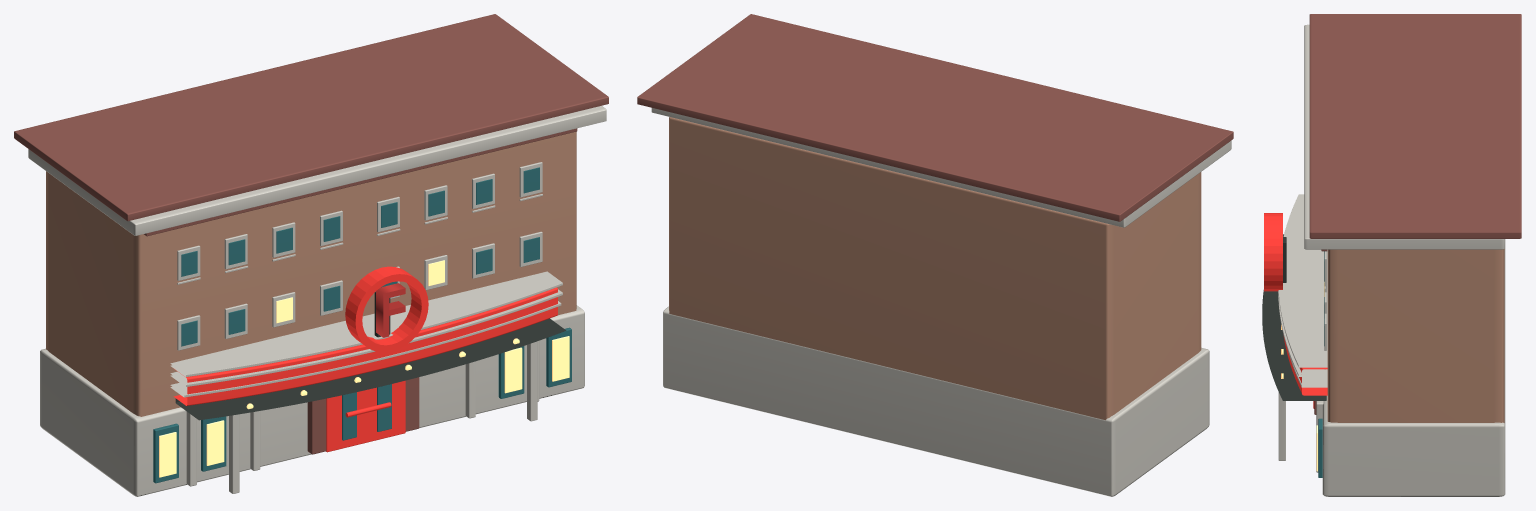
File: filmstaden.glb
3 views of the same model, side by side, from view 1: azimuth 30°, elevation 25°; view 2: azimuth 150°, elevation 25°; view 3: azimuth 270°, elevation 25° (orthographic). The views are drawn at different scales.
Parts seen in each view (by area): view 1: LM_Filmstaden_BrickFacade, LM_Filmstaden_DarkRoofCap, LM_Filmstaden_LightStoneGroundFloor, LM_Filmstaden_RoofCornice, LM_Filmstaden_ShallowCurvedMarquee, LM_Filmstaden_MarqueeHorizontalBand_2, LM_Filmstaden_MarqueeUnderside, Cylinder, LM_Filmstaden_RedFramedEntrance_Frame, LM_Filmstaden_RecessedEntranceBay, LM_Filmstaden_MarqueeHorizontalBand_1, LM_Filmstaden_BrickCorniceDetail (+13 smaller); view 2: LM_Filmstaden_BrickFacade, LM_Filmstaden_DarkRoofCap, LM_Filmstaden_LightStoneGroundFloor, LM_Filmstaden_RoofCornice; view 3: LM_Filmstaden_DarkRoofCap, LM_Filmstaden_BrickFacade, LM_Filmstaden_LightStoneGroundFloor, LM_Filmstaden_MarqueeHorizontalBand_2, LM_Filmstaden_RoofCornice, LM_Filmstaden_MarqueeUnderside, Cylinder, LM_Filmstaden_MarqueeSupportColumn_1, LM_Filmstaden_MarqueeHorizontalBand_1, LM_Filmstaden_ShallowCurvedMarquee, LM_Filmstaden_MarqueeHorizontalBand_0, LM_Filmstaden_PosterCase_3.
Part boxes in pixels (x1,y1,x2,y2): LM_Filmstaden_BrickFacade: [46, 131, 576, 416]; LM_Filmstaden_DarkRoofCap: [14, 14, 608, 221]; LM_Filmstaden_LightStoneGroundFloor: [40, 305, 584, 496]; LM_Filmstaden_RoofCornice: [28, 105, 606, 235]; LM_Filmstaden_ShallowCurvedMarquee: [173, 287, 557, 405]; LM_Filmstaden_MarqueeHorizontalBand_2: [170, 271, 562, 376]; LM_Filmstaden_MarqueeUnderside: [175, 318, 566, 420]; Cylinder: [345, 266, 428, 352]; LM_Filmstaden_RedFramedEntrance_Frame: [326, 380, 405, 452]; LM_Filmstaden_RecessedEntranceBay: [307, 377, 419, 454]; LM_Filmstaden_MarqueeHorizontalBand_1: [170, 289, 562, 386]; LM_Filmstaden_BrickCorniceDetail: [144, 128, 577, 236]; LM_Filmstaden_BrickFacade: [669, 117, 1201, 420]; LM_Filmstaden_DarkRoofCap: [637, 14, 1233, 221]; LM_Filmstaden_LightStoneGroundFloor: [663, 306, 1209, 496]; LM_Filmstaden_RoofCornice: [651, 108, 1231, 227]; LM_Filmstaden_DarkRoofCap: [1309, 14, 1521, 238]; LM_Filmstaden_BrickFacade: [1327, 249, 1504, 422]; LM_Filmstaden_LightStoneGroundFloor: [1322, 239, 1505, 496]; LM_Filmstaden_MarqueeHorizontalBand_2: [1278, 194, 1327, 367]; LM_Filmstaden_RoofCornice: [1304, 24, 1504, 249]; LM_Filmstaden_MarqueeUnderside: [1262, 234, 1326, 400]; Cylinder: [1264, 213, 1282, 291]; LM_Filmstaden_MarqueeSupportColumn_1: [1278, 392, 1285, 460]; LM_Filmstaden_MarqueeHorizontalBand_1: [1278, 291, 1327, 376]; LM_Filmstaden_ShallowCurvedMarquee: [1283, 336, 1327, 395]; LM_Filmstaden_MarqueeHorizontalBand_0: [1288, 351, 1327, 387]; LM_Filmstaden_PosterCase_3: [1318, 418, 1322, 477].
Size of the model in its own units: 1.52 by 0.886 by 0.7637.
